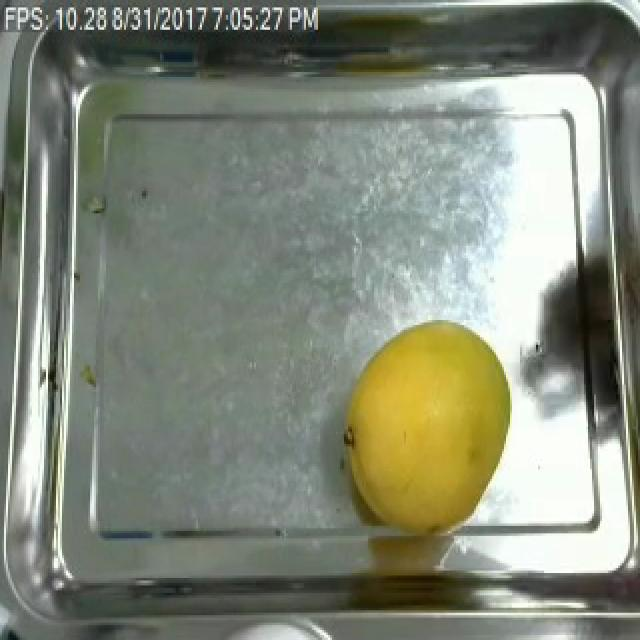fruit: (330, 308, 528, 553)
